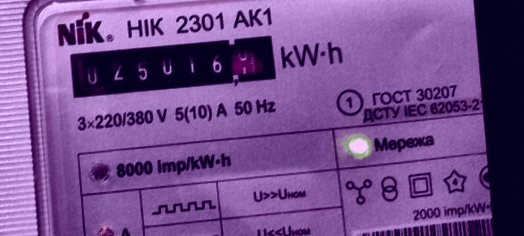0: (159, 52, 174, 76), (83, 62, 98, 85), (234, 41, 248, 61)
1: (183, 49, 196, 75), (238, 64, 247, 75)
2: (109, 57, 124, 81)
5: (134, 58, 147, 80)
6: (208, 50, 223, 76)
screen: (58, 25, 285, 104)
